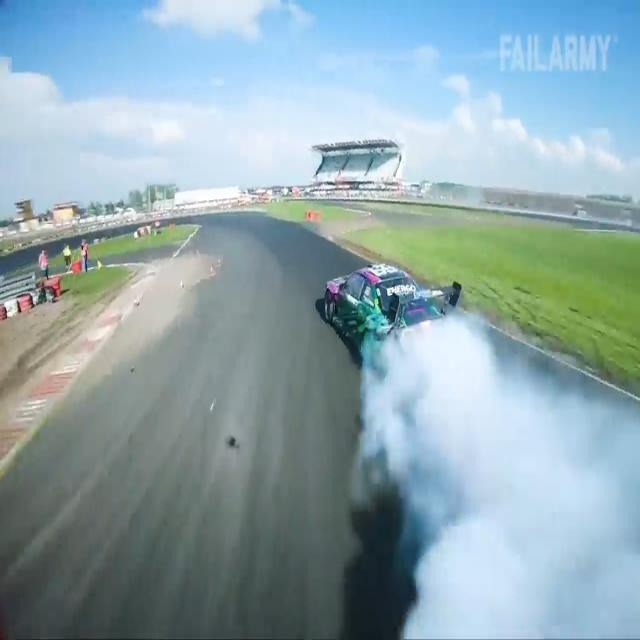Vehicle: (314, 235, 460, 370)
